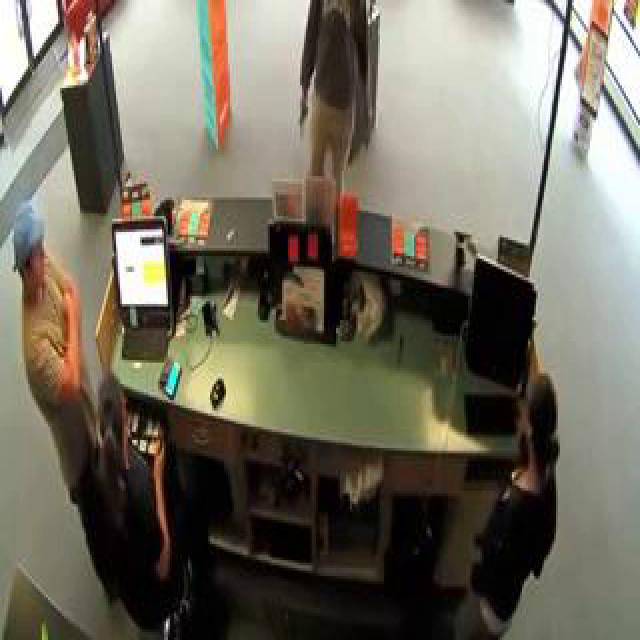robbery: (7, 101, 205, 634)
